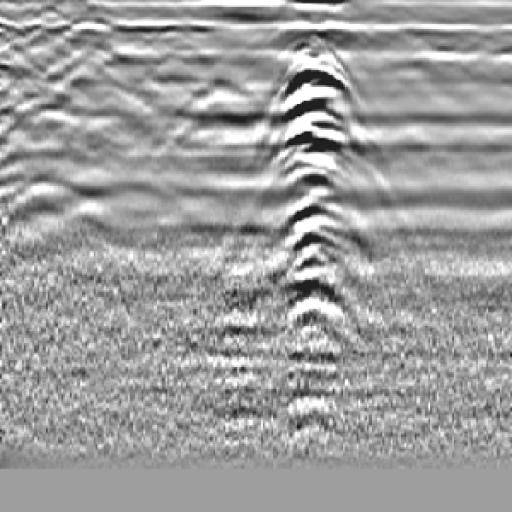metalic: (236, 21, 401, 432)
nonmetalic: (148, 55, 291, 189)
